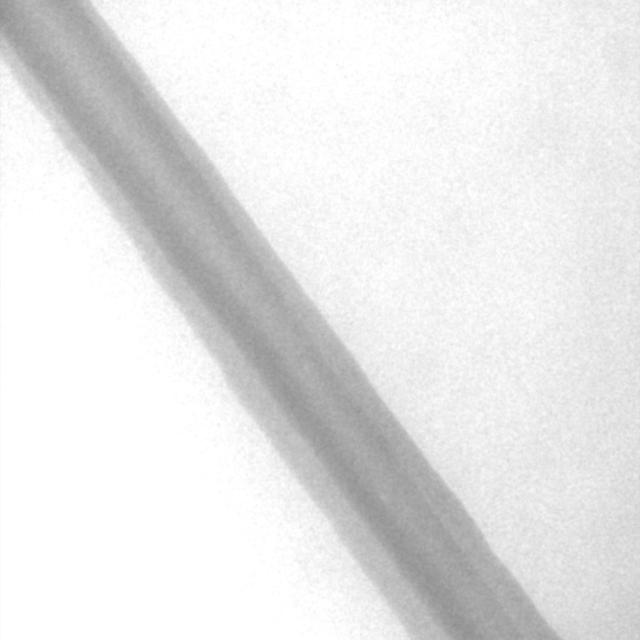air hole: (377, 491, 388, 506)
